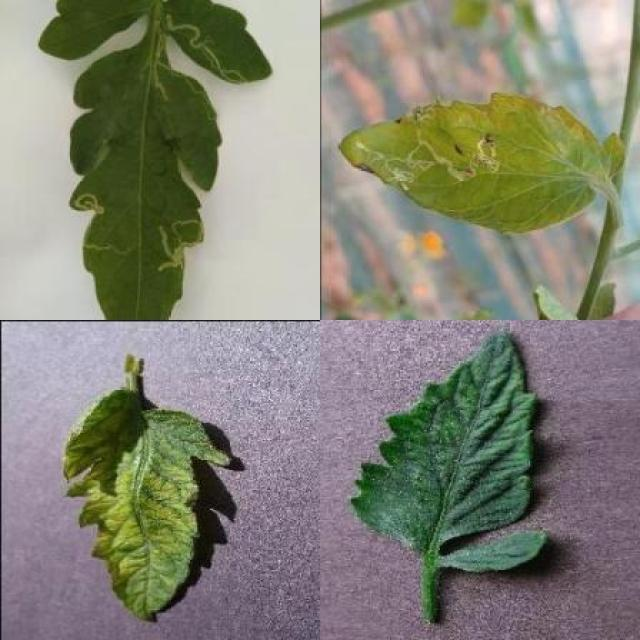Leaf Miner: (66, 46, 224, 320), (338, 92, 625, 235), (166, 1, 276, 85)
Mosaic Virus: (352, 329, 548, 574), (62, 387, 232, 620)
